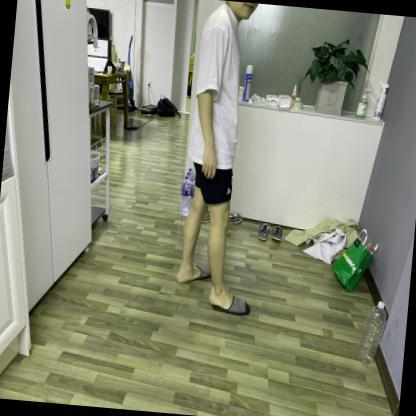no_safety-shoe: (201, 281, 259, 327), (170, 257, 215, 292)
